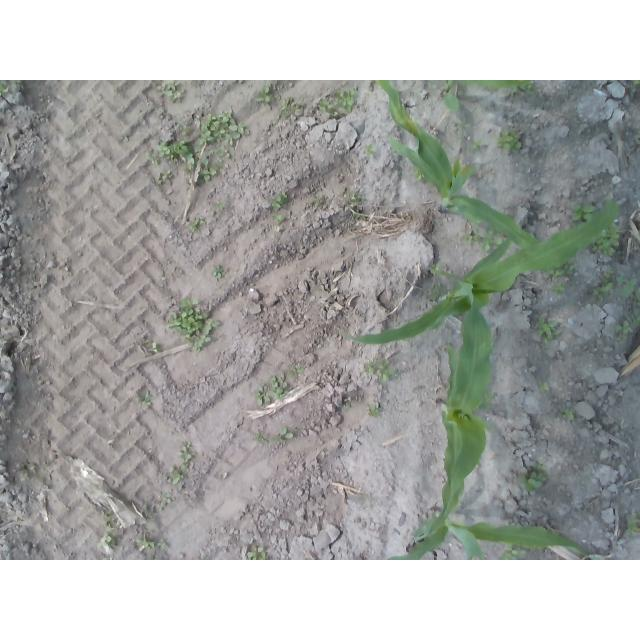Maize: (336, 202, 620, 345), (374, 81, 543, 252), (428, 270, 497, 543), (386, 508, 606, 560), (440, 80, 533, 114)
Weeds: (166, 297, 221, 351), (196, 109, 245, 144), (183, 156, 222, 186), (517, 459, 548, 494), (156, 139, 196, 164), (592, 226, 620, 257), (363, 358, 395, 383), (535, 317, 561, 345), (157, 80, 186, 102), (334, 89, 358, 115), (547, 257, 576, 278), (496, 129, 521, 152), (269, 373, 291, 399), (481, 226, 503, 252), (498, 542, 527, 560), (280, 99, 304, 120), (616, 276, 637, 299), (342, 184, 362, 208), (590, 282, 613, 302), (570, 204, 594, 222), (252, 86, 274, 105), (268, 192, 288, 212), (178, 444, 193, 470), (509, 81, 534, 96), (460, 229, 480, 246), (615, 320, 632, 340), (246, 545, 268, 560), (254, 387, 271, 406), (478, 392, 495, 411), (626, 513, 640, 536), (96, 532, 116, 548), (273, 428, 294, 443), (428, 282, 444, 301), (103, 509, 116, 532), (154, 168, 172, 184), (168, 466, 184, 484), (318, 98, 335, 114), (187, 217, 206, 231), (146, 339, 163, 354), (134, 538, 155, 550), (287, 363, 305, 377), (459, 114, 473, 131), (367, 403, 383, 417), (252, 432, 269, 445), (468, 140, 486, 152), (139, 390, 156, 402), (560, 408, 577, 420), (551, 282, 566, 295), (17, 463, 36, 473), (631, 306, 640, 327), (214, 147, 231, 158), (415, 166, 426, 182), (429, 262, 442, 275), (537, 380, 551, 392), (602, 269, 614, 283), (145, 153, 160, 164), (365, 143, 376, 158), (212, 266, 224, 279), (160, 491, 172, 503), (271, 213, 285, 223), (0, 80, 8, 97), (143, 510, 153, 523), (195, 143, 204, 157), (156, 540, 168, 549), (633, 287, 640, 301), (214, 203, 227, 210), (182, 125, 190, 135), (342, 399, 350, 409), (10, 80, 23, 84)
